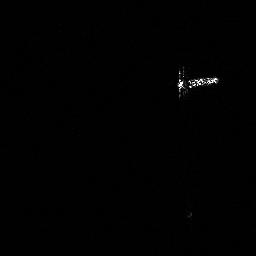ship: (176, 75, 218, 90)
